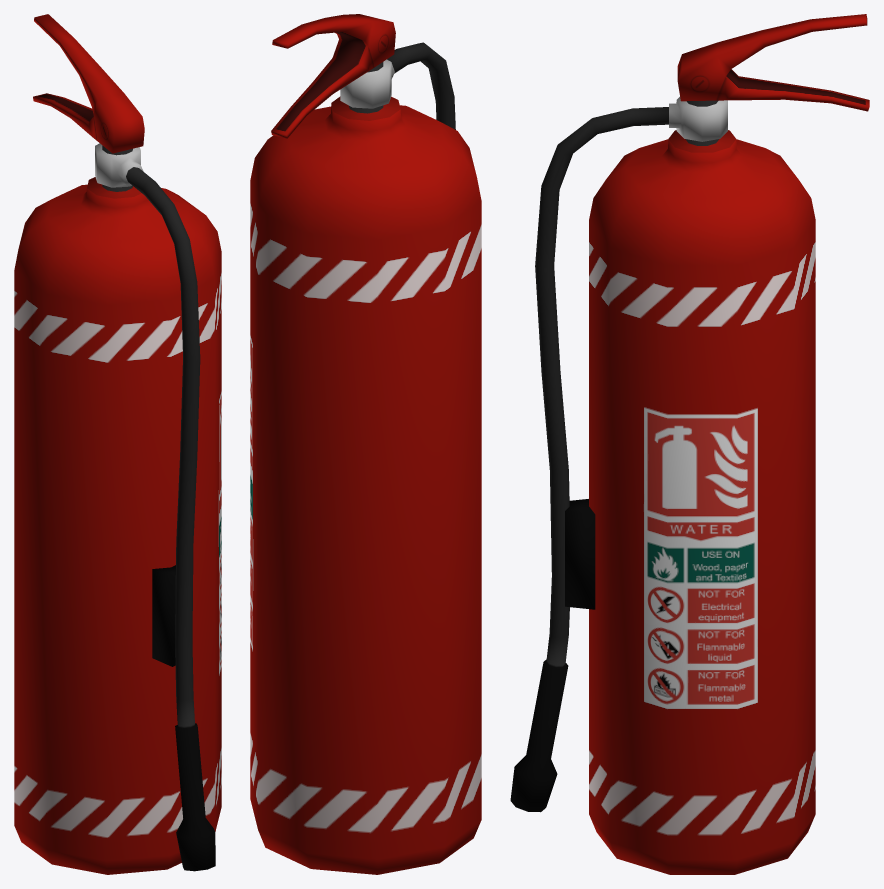
File: Extinguisher.fbx
The picture shows the model from 3 angles, left to right: view 1: azimuth 30°, elevation 25°; view 2: azimuth 150°, elevation 25°; view 3: azimuth 270°, elevation 25°; orthographic projection. The views are drawn at different scales.
Visible parts, largest first — view 1: Extinguisher; view 2: Extinguisher; view 3: Extinguisher.
Boxes of the visible parts, left/top/right/bottom form: Extinguisher: left=14, top=14, right=221, bottom=874; Extinguisher: left=250, top=14, right=481, bottom=874; Extinguisher: left=510, top=14, right=869, bottom=874.
Size of the model in its own units: 2.49 by 10.53 by 4.15.
Materials: 1 (1 with a texture image).
